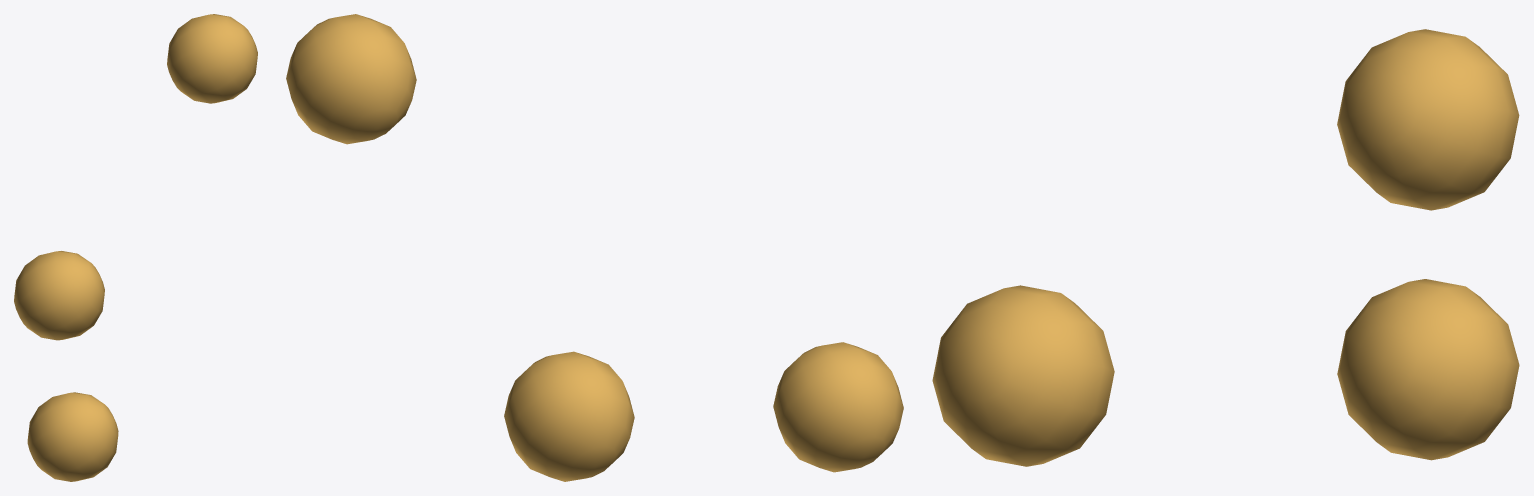
3 views of the same model, side by side, from view 1: azimuth 30°, elevation 25°; view 2: azimuth 150°, elevation 25°; view 3: azimuth 270°, elevation 25° (orthographic). The views are drawn at different scales.
Visible parts, largest first — view 1: 右侧腮腺浅淋巴结; view 2: 右侧腮腺浅淋巴结; view 3: 右侧腮腺浅淋巴结.
Part boxes in pixels (<box>): 右侧腮腺浅淋巴结: <box>14,14,257,481</box>; 右侧腮腺浅淋巴结: <box>286,14,903,481</box>; 右侧腮腺浅淋巴结: <box>932,29,1519,466</box>.
Size of the model in its own units: 0.0154 by 0.0151 by 0.0123.
